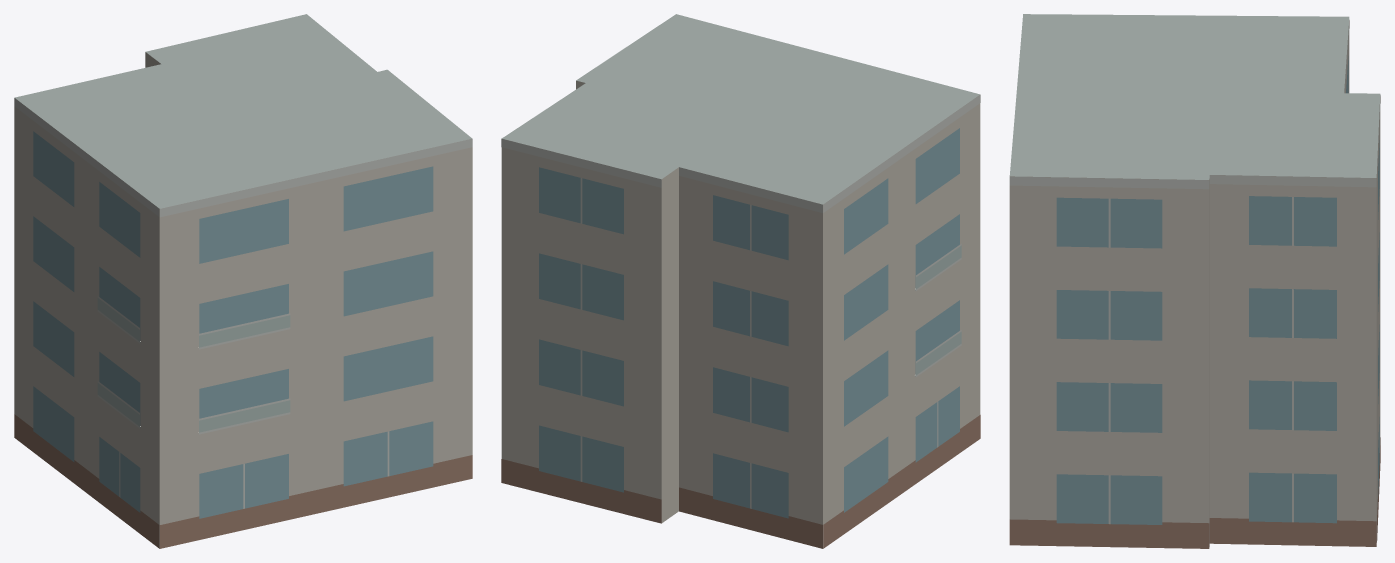
Rendered from survey-upis-32958002.glb.
3 renders of one model, left to right at view 1: azimuth 30°, elevation 25°; view 2: azimuth 150°, elevation 25°; view 3: azimuth 270°, elevation 25°, orthographic. The views are drawn at different scales.
Parts seen in each view (by area): view 1: survey-upis-32958002.tmp; view 2: survey-upis-32958002.tmp; view 3: survey-upis-32958002.tmp.
Boxes of the visible parts, x1,y1,x2,y2 form: survey-upis-32958002.tmp: (14, 14, 472, 548); survey-upis-32958002.tmp: (501, 14, 980, 548); survey-upis-32958002.tmp: (1009, 14, 1380, 548).
Bounding box in the file's own units: 9.44 × 9.75 × 8.89.
